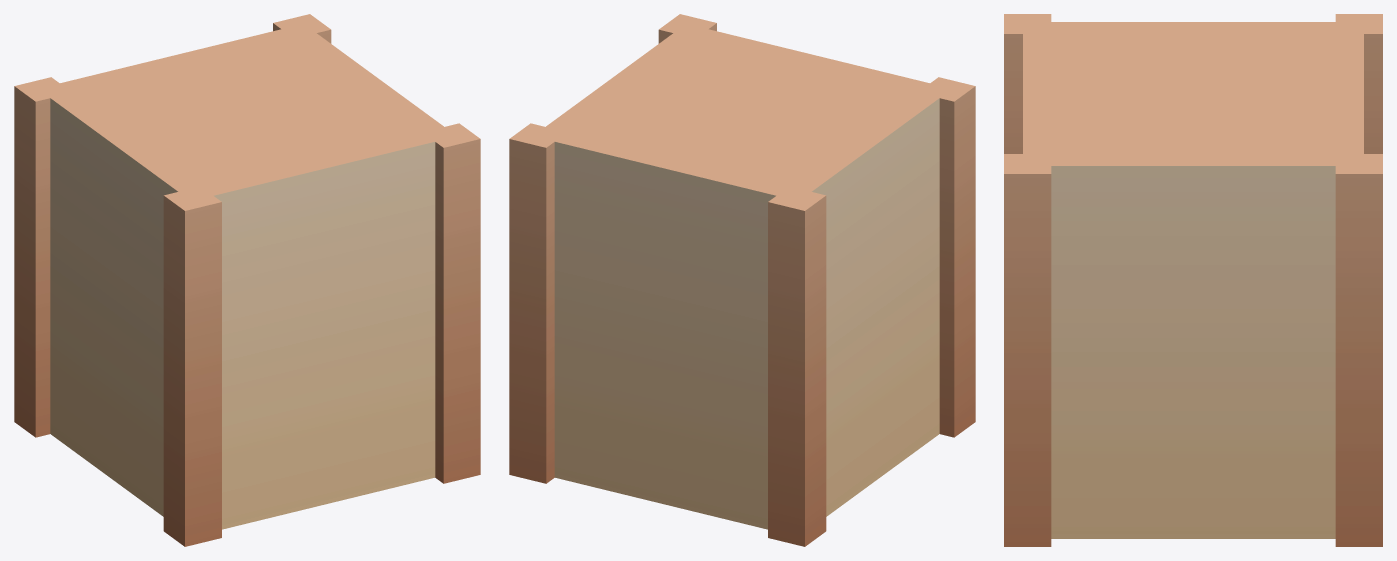
File: tower-square-mid.glb
3 renders of one model, left to right at view 1: azimuth 30°, elevation 25°; view 2: azimuth 150°, elevation 25°; view 3: azimuth 270°, elevation 25°, orthographic. The views are drawn at different scales.
Parts seen in each view (by area): view 1: tower-square-mid; view 2: tower-square-mid; view 3: tower-square-mid.
Boxes of the visible parts, left/top/right/bottom form: tower-square-mid: left=14, top=14, right=480, bottom=546; tower-square-mid: left=509, top=14, right=975, bottom=546; tower-square-mid: left=1004, top=14, right=1382, bottom=546.
Size of the model in its own units: 0.93 by 1.01 by 0.93.
1 material, 1 textured.
